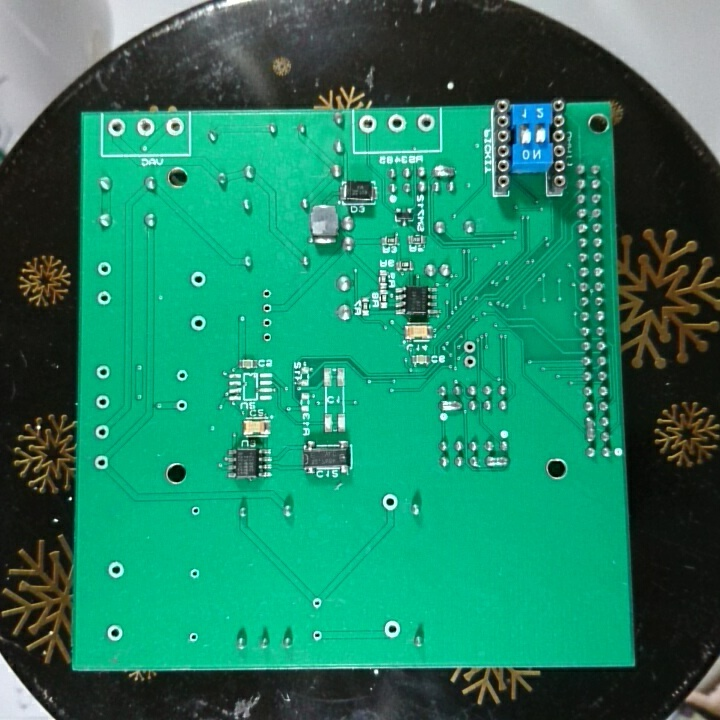F: (378, 490, 402, 515), (133, 115, 157, 140), (103, 621, 126, 646), (105, 116, 128, 140), (386, 112, 409, 135), (163, 115, 185, 139), (357, 112, 379, 136), (105, 558, 127, 580), (92, 422, 114, 444), (188, 268, 210, 290), (415, 112, 436, 135), (188, 312, 209, 334), (94, 259, 114, 282), (94, 288, 114, 310), (382, 618, 401, 640), (92, 453, 111, 474), (171, 397, 191, 416), (93, 393, 112, 412), (94, 363, 112, 383), (173, 366, 191, 385), (461, 353, 479, 372), (184, 629, 202, 646), (310, 627, 326, 646), (309, 594, 325, 613), (462, 337, 479, 354), (186, 566, 202, 583), (259, 286, 276, 301), (259, 329, 276, 344), (259, 314, 275, 329), (188, 503, 202, 520), (260, 302, 276, 316)
P: (482, 452, 512, 472), (431, 161, 459, 179), (437, 397, 464, 415), (582, 414, 598, 444)
